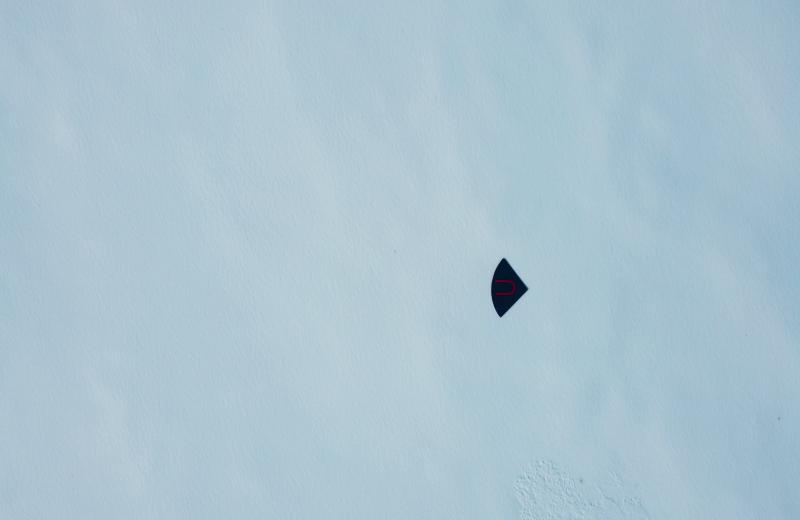Quarter Circle: (490, 257, 530, 320)
